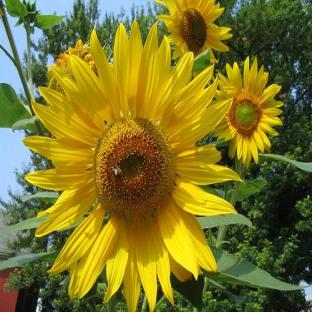sunflower: (21, 20, 244, 312)
